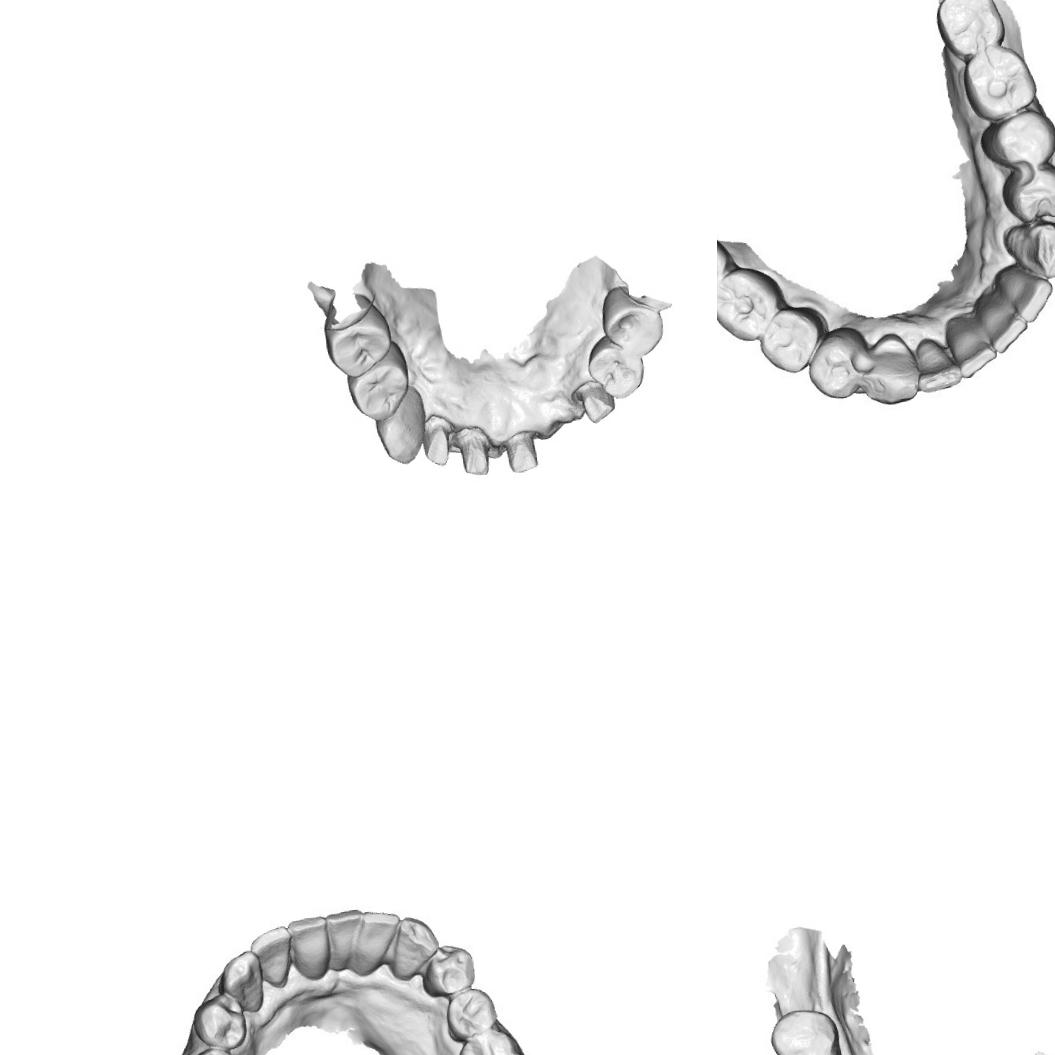canine: (371, 384, 430, 468), (991, 209, 1055, 284), (384, 911, 442, 981), (862, 335, 918, 404), (217, 950, 269, 1014)
crown: (570, 376, 618, 426), (420, 410, 458, 469), (498, 426, 542, 476), (455, 424, 493, 477)
incisor: (998, 260, 1051, 324), (912, 334, 966, 396), (977, 293, 1028, 350), (945, 316, 993, 372), (250, 928, 295, 987), (327, 908, 366, 976), (356, 909, 398, 972), (290, 916, 331, 978)
molar: (956, 42, 1035, 122), (717, 260, 784, 344), (929, 0, 1000, 56), (459, 1028, 533, 1055)
premolar: (796, 322, 875, 402), (750, 298, 832, 374), (320, 302, 395, 382), (344, 340, 413, 425), (595, 282, 667, 362), (582, 332, 646, 402), (766, 1005, 840, 1055), (194, 991, 250, 1053), (994, 111, 1055, 166), (446, 985, 502, 1040), (425, 944, 474, 994), (1011, 164, 1055, 218), (188, 1043, 244, 1055)
